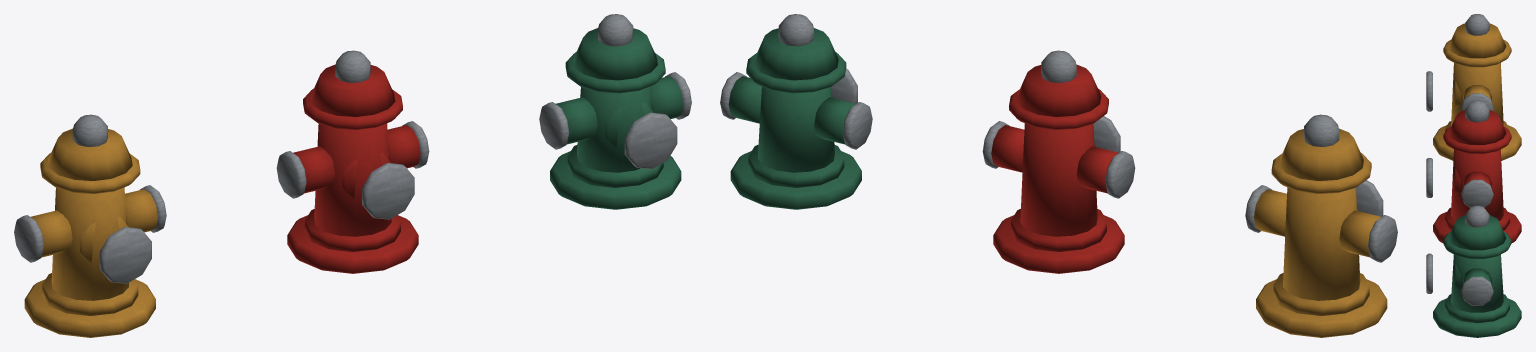
Rendered from hydrant.glb.
3 renders of one model, left to right at view 1: azimuth 30°, elevation 25°; view 2: azimuth 150°, elevation 25°; view 3: azimuth 270°, elevation 25°, orthographic. The views are drawn at different scales.
Parts seen in each view (by area): view 1: hydrant_v2, hydrant_v1, hydrant_v3; view 2: hydrant_v1, hydrant_v2, hydrant_v3; view 3: hydrant_v3, hydrant_v2, hydrant_v1.
Part boxes in pixels (x1,y1,x2,y2): hydrant_v2: (276, 50, 429, 273); hydrant_v1: (14, 114, 166, 337); hydrant_v3: (539, 14, 691, 209); hydrant_v1: (1245, 114, 1397, 337); hydrant_v2: (982, 50, 1135, 273); hydrant_v3: (720, 14, 872, 209); hydrant_v3: (1426, 205, 1521, 337); hydrant_v2: (1426, 100, 1521, 242); hydrant_v1: (1426, 14, 1521, 160).
Size of the model in its own units: 3 by 0.855 by 0.56.
2 materials, 2 textured.
